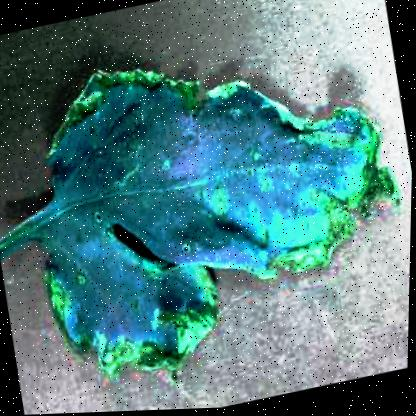BACTERIAL SPOT: (0, 7, 415, 415)
